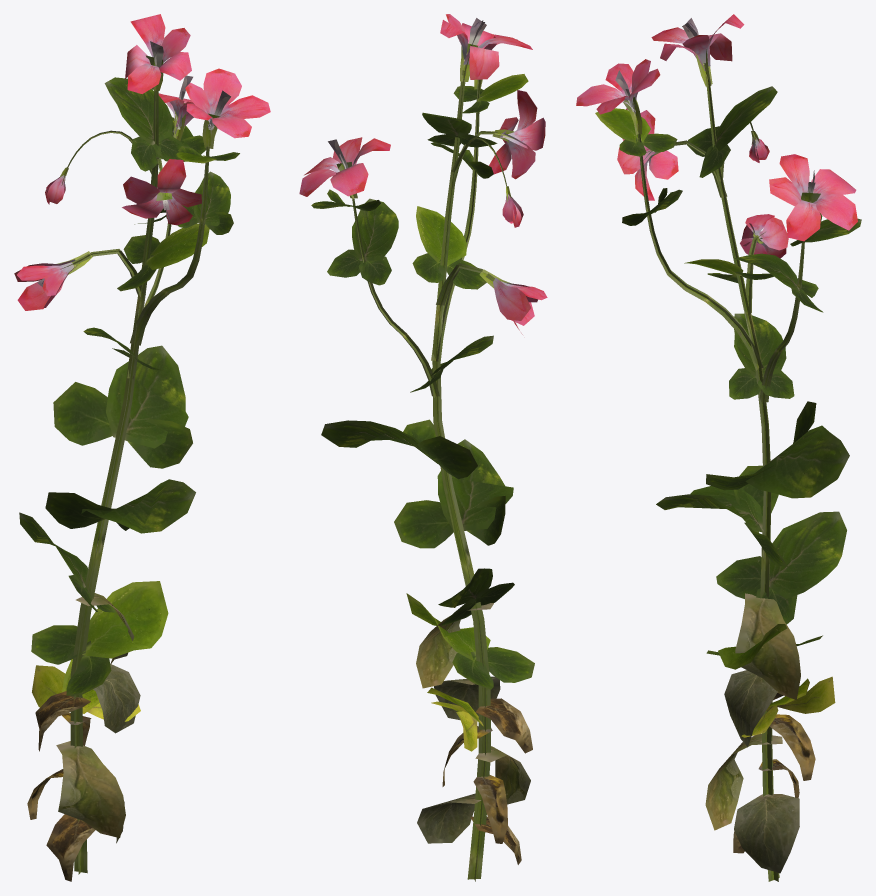
The model's file is Periwinkle_OG_normal_red.glb.
The picture shows the model from 3 angles, left to right: view 1: azimuth 30°, elevation 25°; view 2: azimuth 150°, elevation 25°; view 3: azimuth 270°, elevation 25°; orthographic projection. The views are drawn at different scales.
Visible parts, largest first — view 1: _419c_Var3_LOD1; view 2: _419c_Var3_LOD1; view 3: _419c_Var3_LOD1.
Boxes of the visible parts, bbox=[...] form: _419c_Var3_LOD1: bbox=[14, 14, 270, 881]; _419c_Var3_LOD1: bbox=[299, 14, 547, 881]; _419c_Var3_LOD1: bbox=[576, 14, 861, 881].
Size of the model in its own units: 0.6129 by 2.19 by 0.6394.
Materials: 1 (1 with a texture image).
